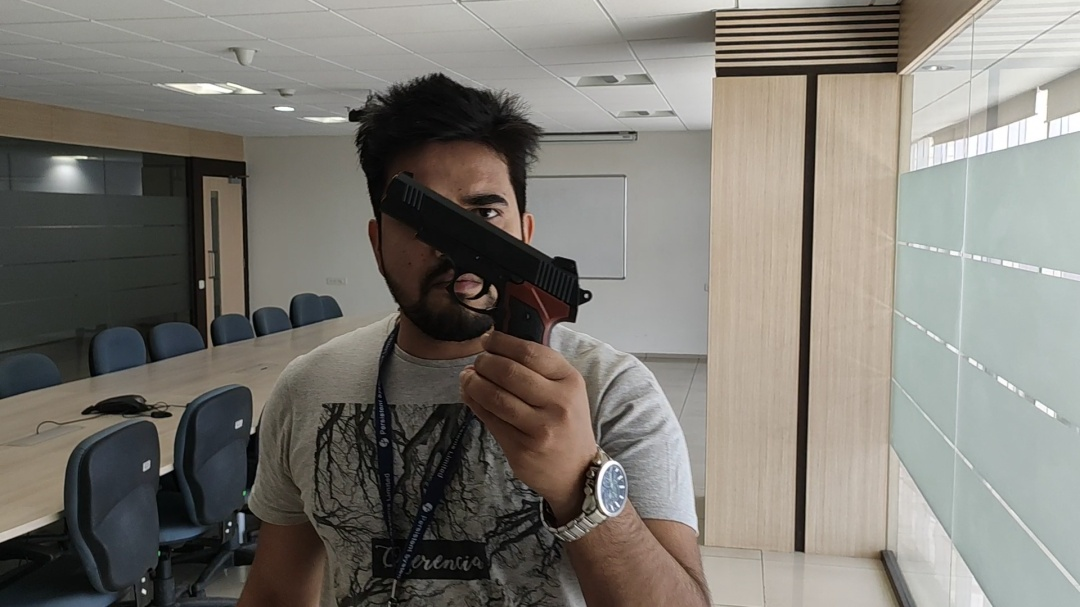gun: (373, 162, 597, 353)
